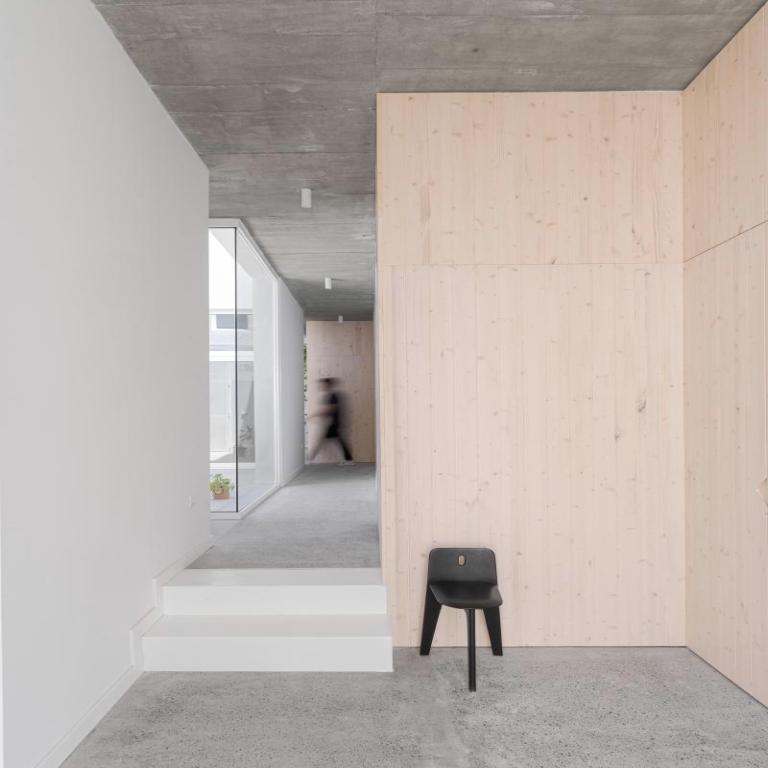white-walls: (12, 34, 204, 650)
